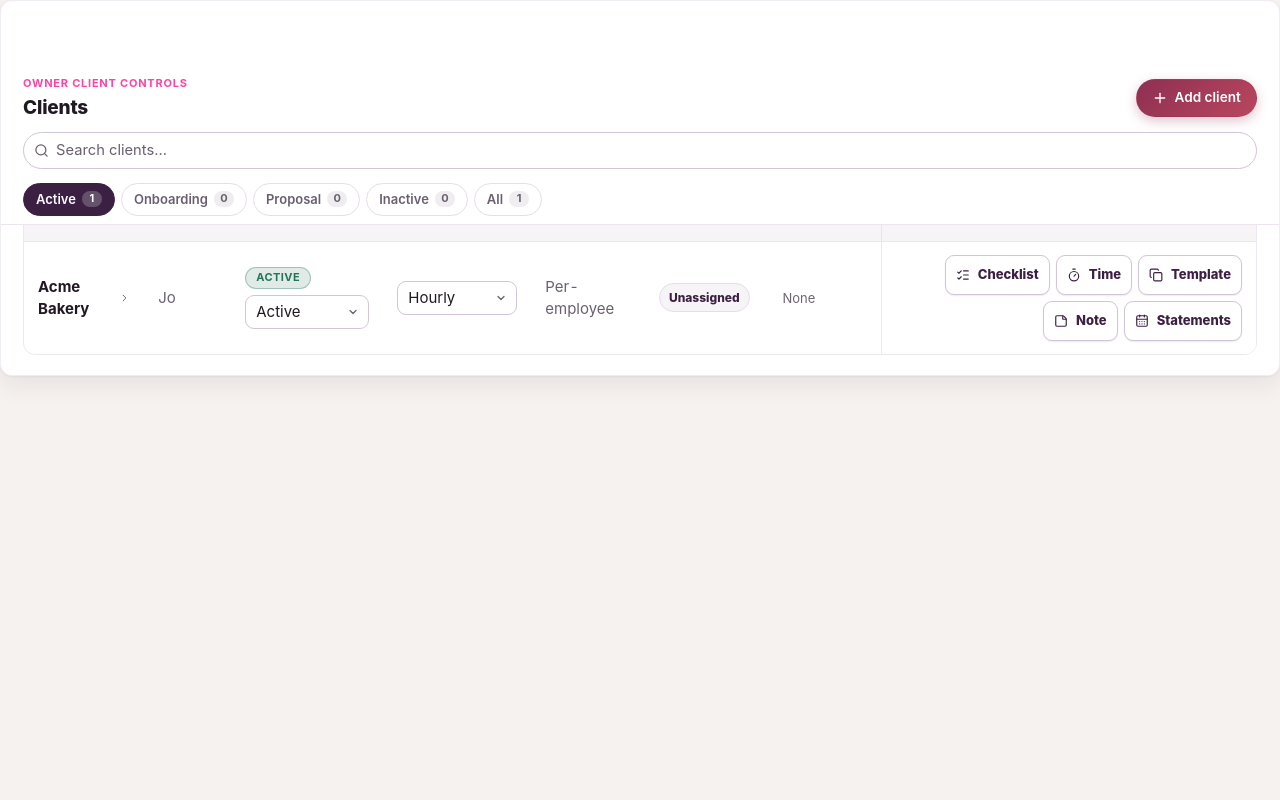
Scenario: the Add client form - the new contact email › shows the reason and keeps Add client off for two addresses, and turns it on when fixed
The width and height of the screenshot is (1280, 800).
Click the button "Add client": (1196, 98) [1136,79,1257,117]
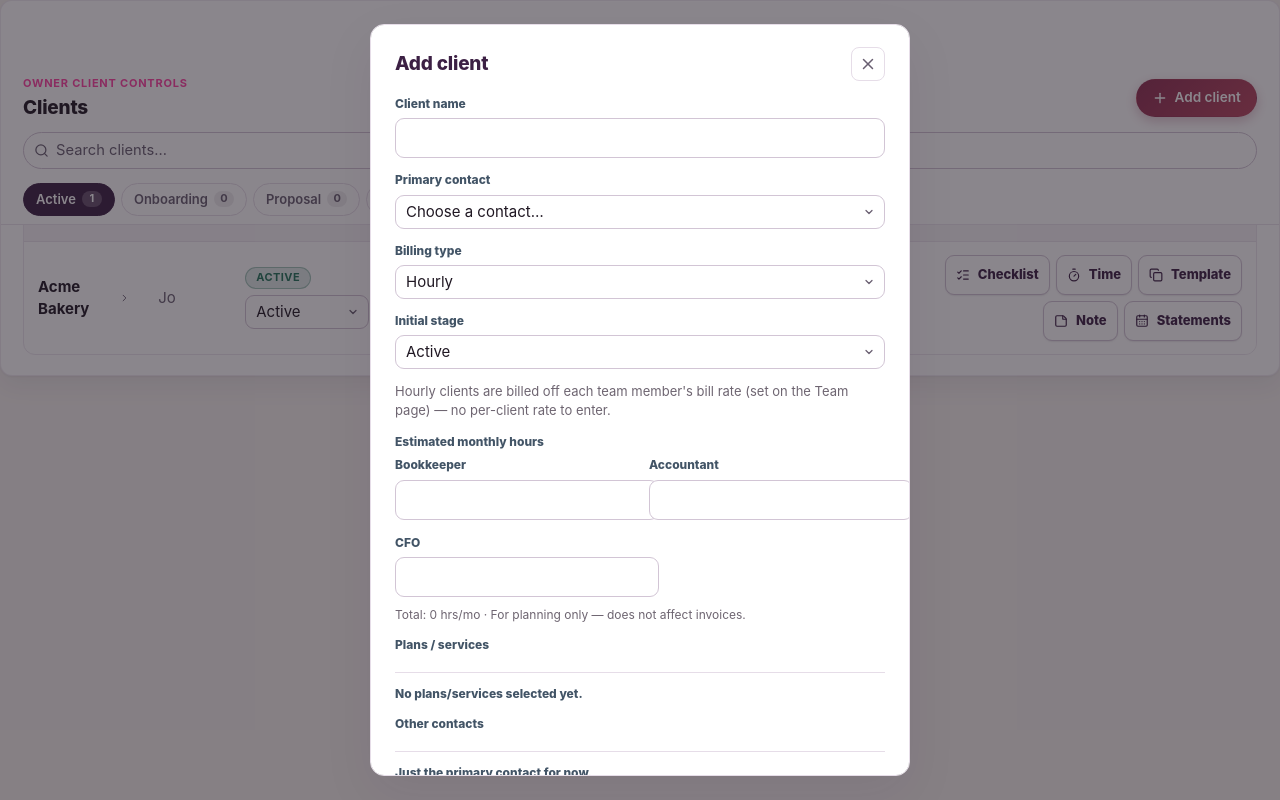
In the field labelled "Client name": (640, 138) [395,118,885,158], type "New Co"
Select "+ Add a new contact…" in the dropdown labelled "Primary contact": (640, 212) [395,194,885,228]
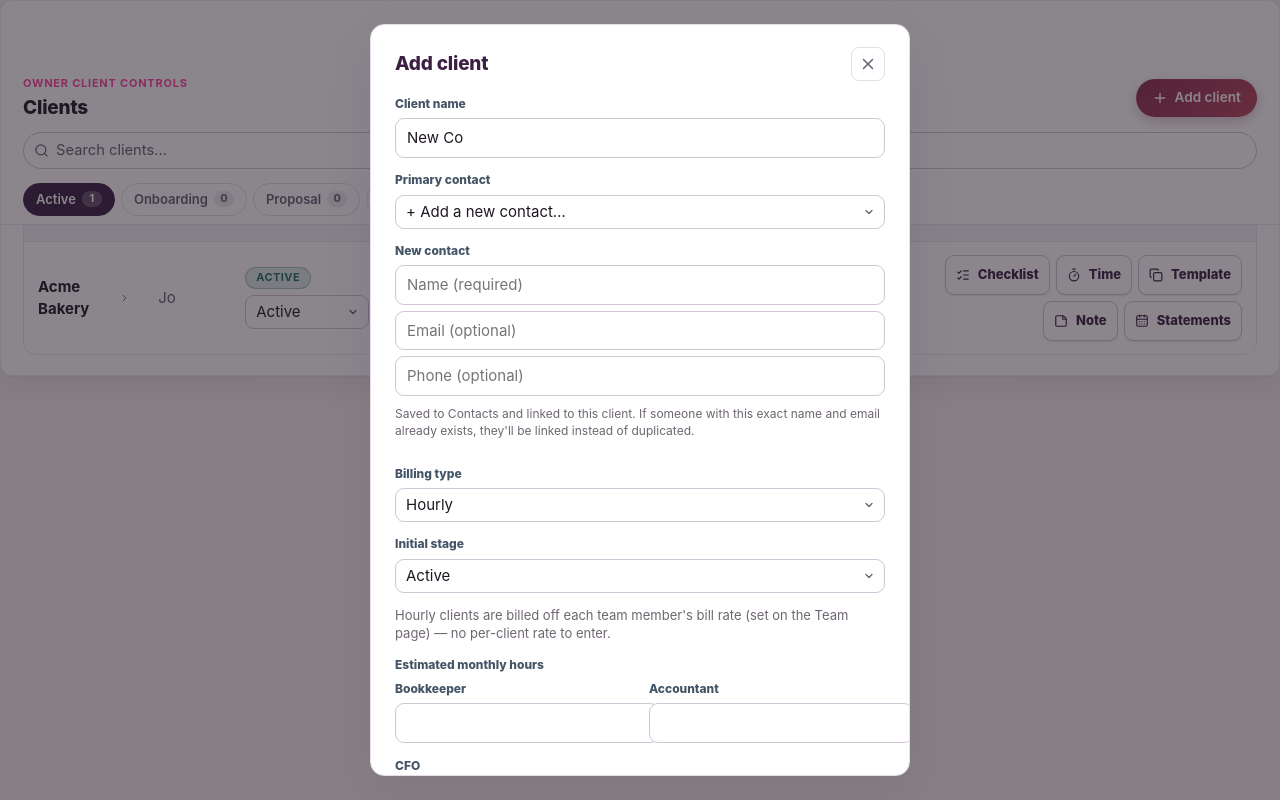
In the field with placeholder "Name (required)": (640, 285) [395,265,885,305], type "Jane Roe"
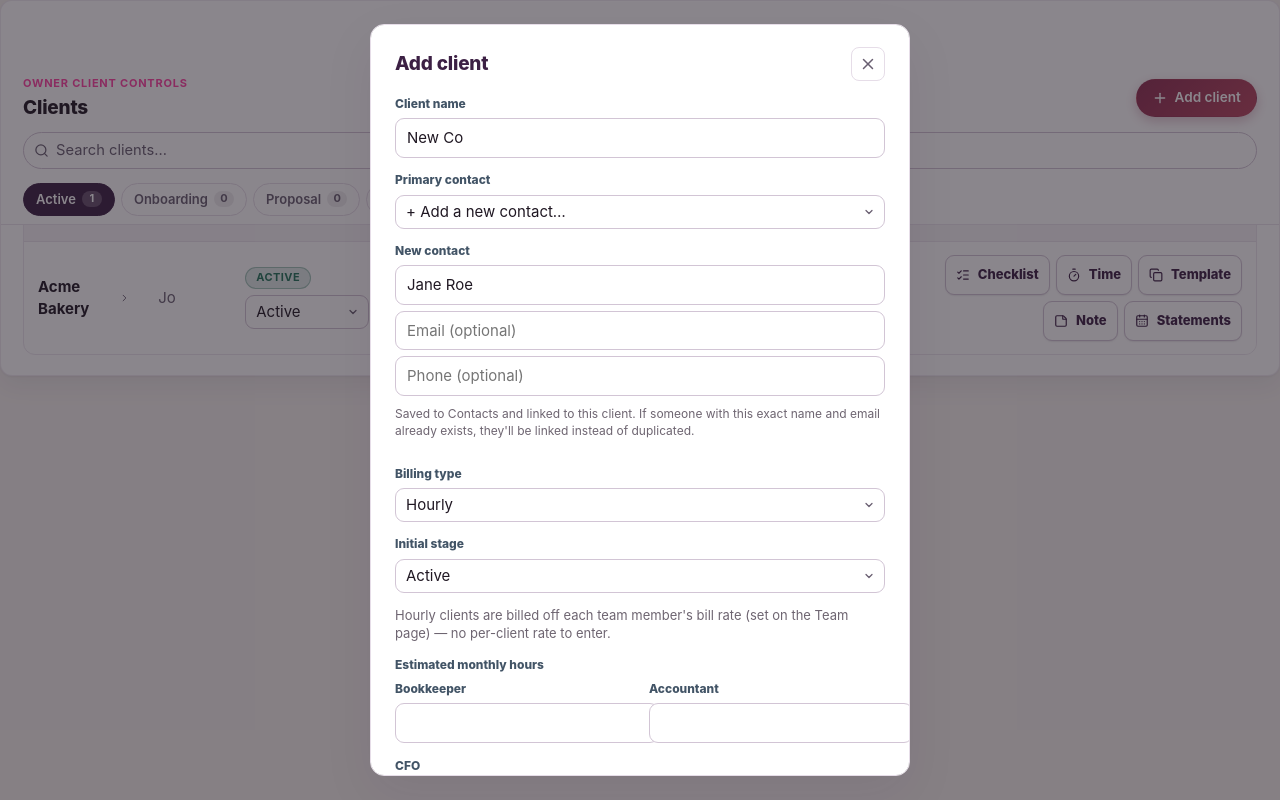
In the field with placeholder "Email (optional)": (640, 331) [395,311,885,350], type "a@x.com, b@y.com"
(page scrolled)
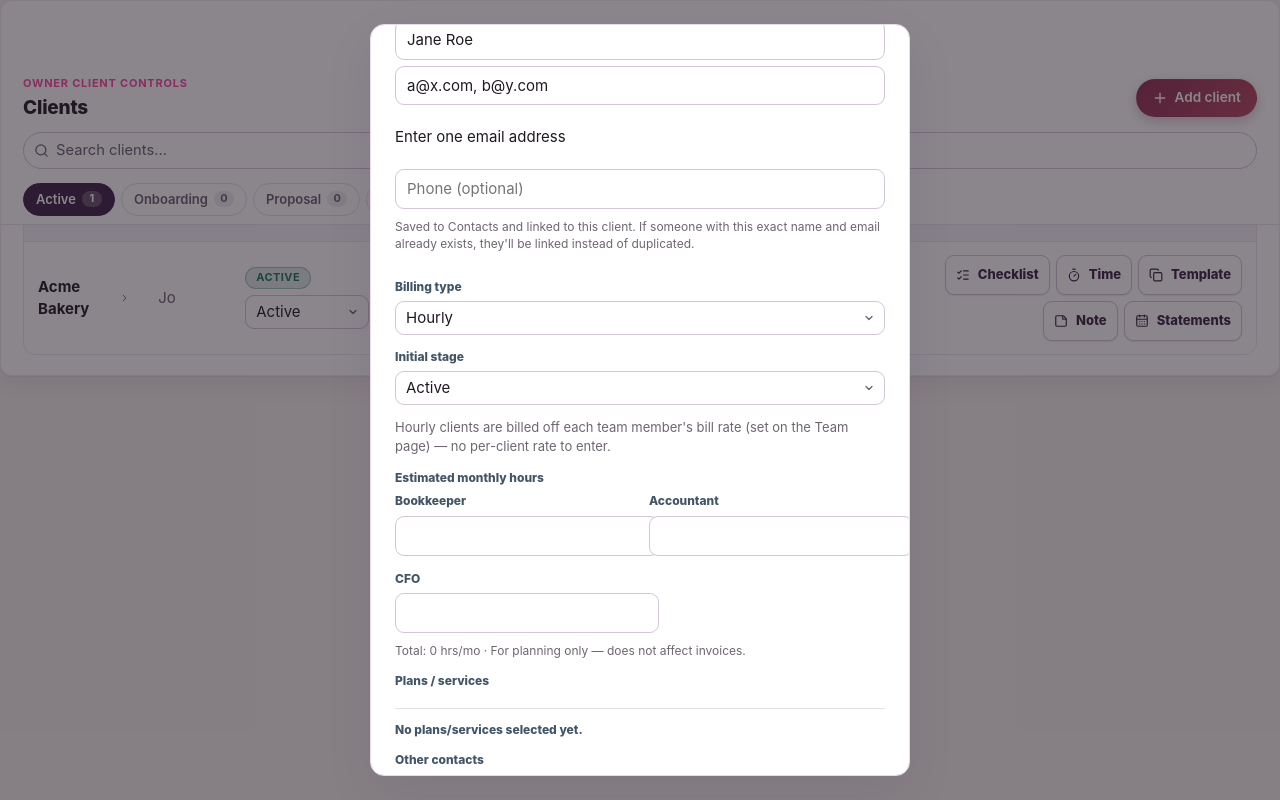
Expected: the text "Enter one email address" is shown, [395,127,566,146]
Enter in a field submits the form without the button: the guard in the handler holds too.
Submit the form
Replace the text in the 2nd field with placeholder "Email (optional)" with "Jane <a@x.com>": (640, 86) [395,66,885,106]
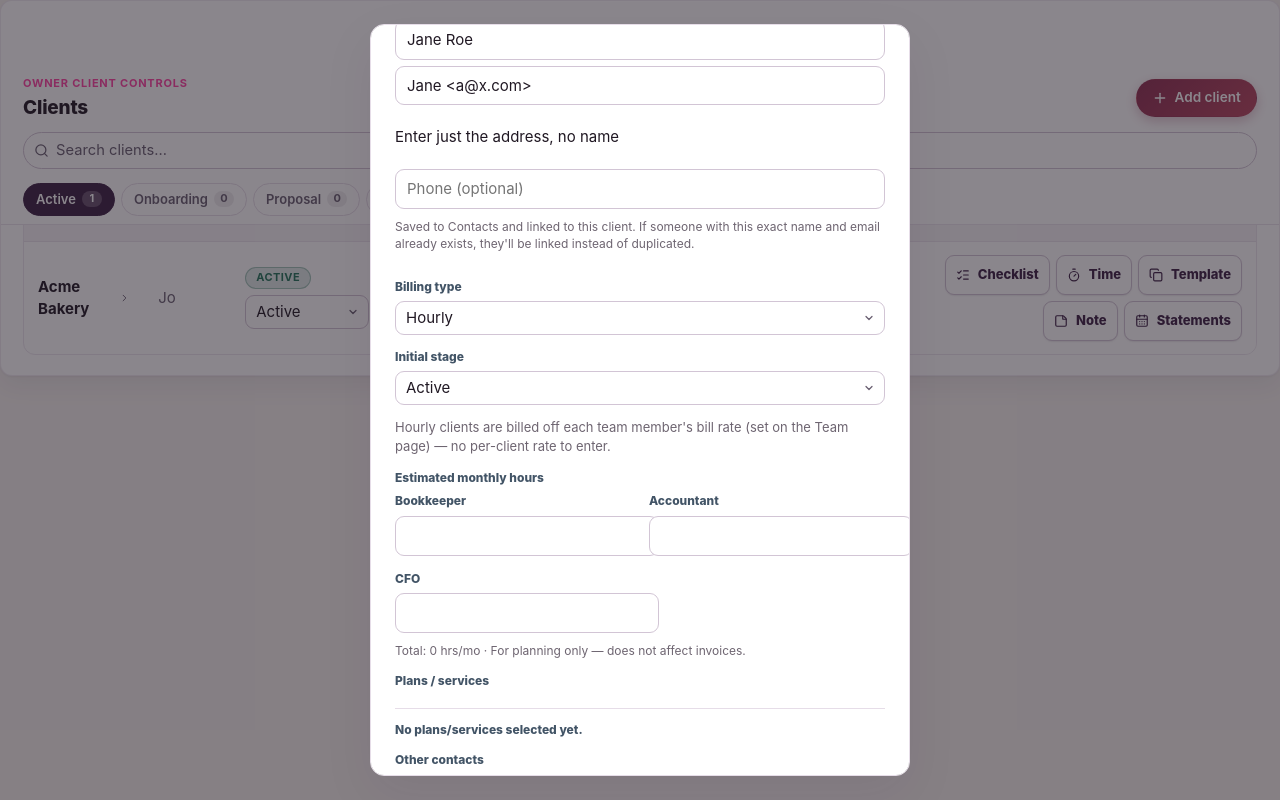
Expected: the text "Enter just the address, no name" is shown, [395,127,619,146]
Replace the text in the 2nd field with placeholder "Email (optional)" with "a@x.com": (640, 86) [395,66,885,106]
(page scrolled)
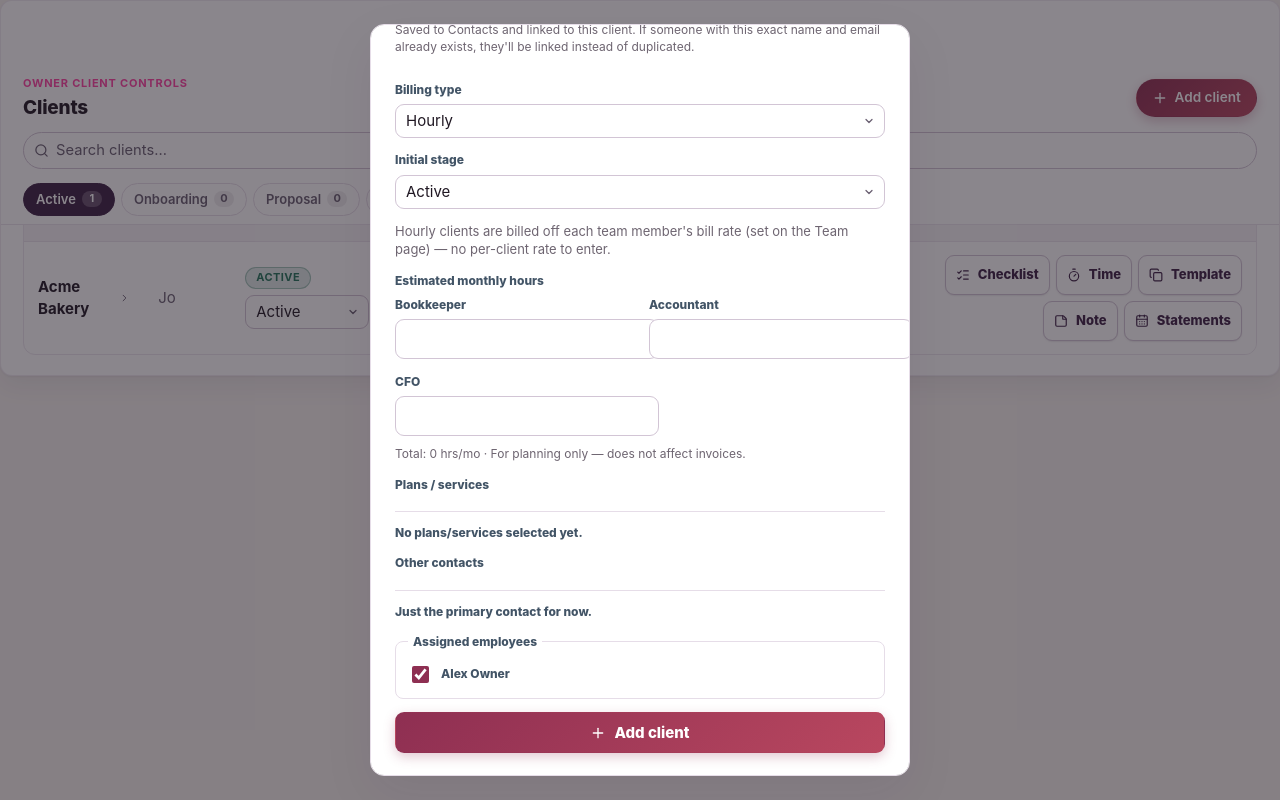
Expected: the message "Enter just the address, no name" is gone
Expected: the button "Add client" is enabled, [395,712,885,754]
